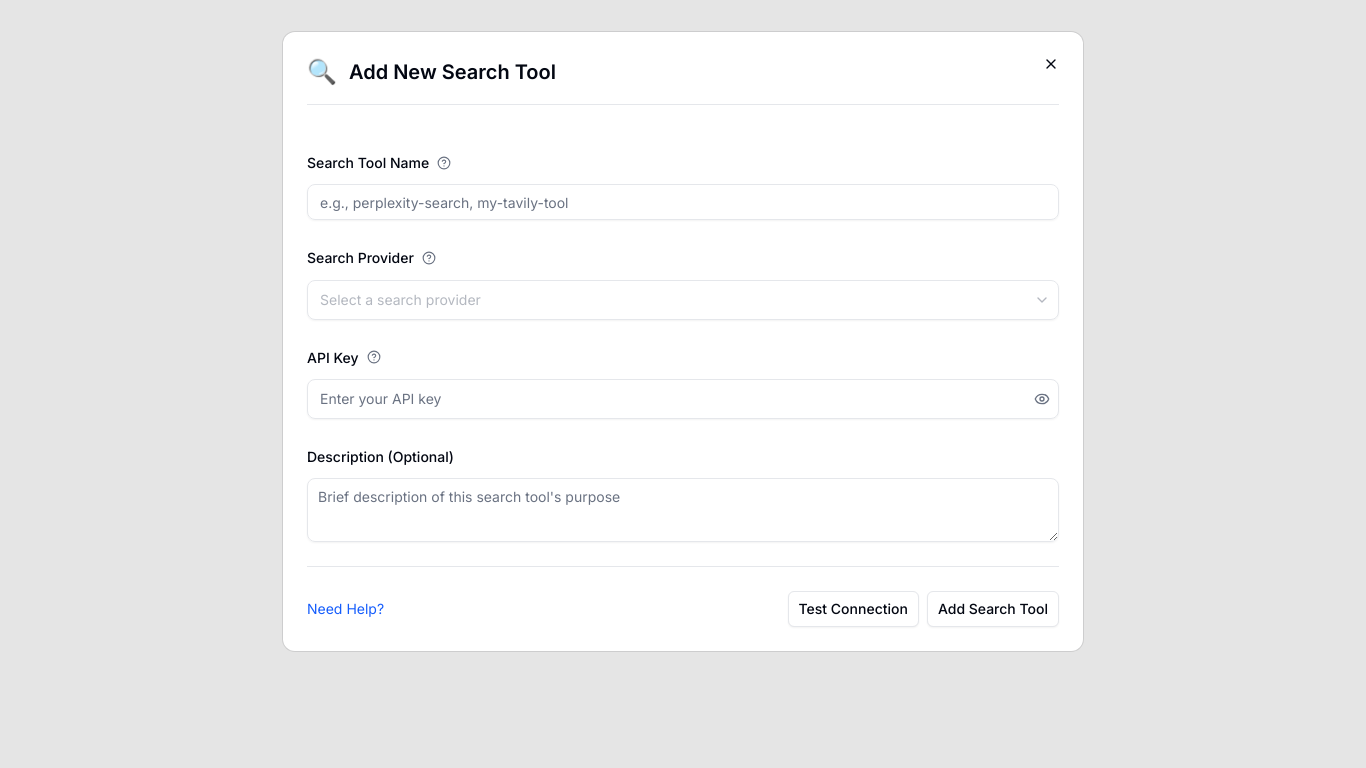
it: CreateSearchTools submit payload › rejects a name with characters outside the allowed pattern
In the field labelled "Search Tool Name": (683, 202) [307,184,1059,220], type "bad name!"
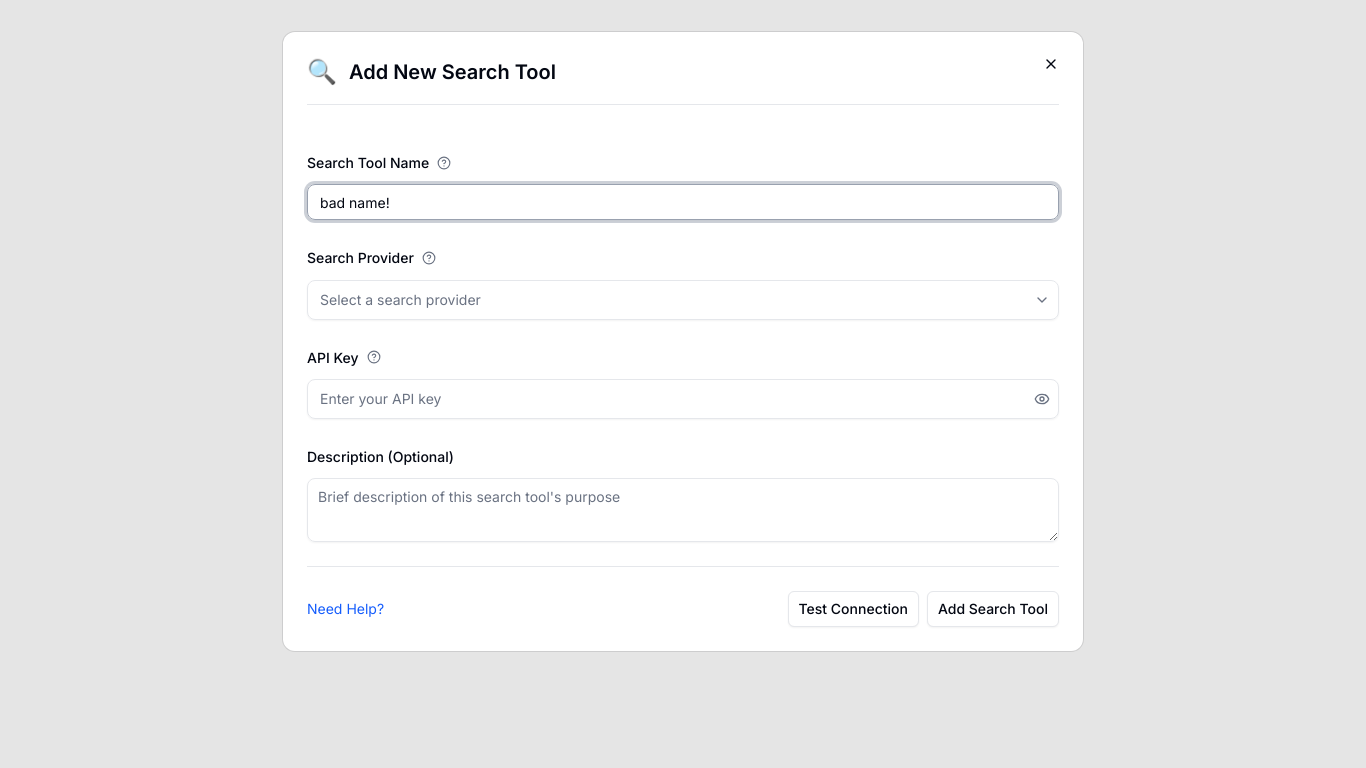
Click the dropdown: (669, 300) [308,282,1030,318]
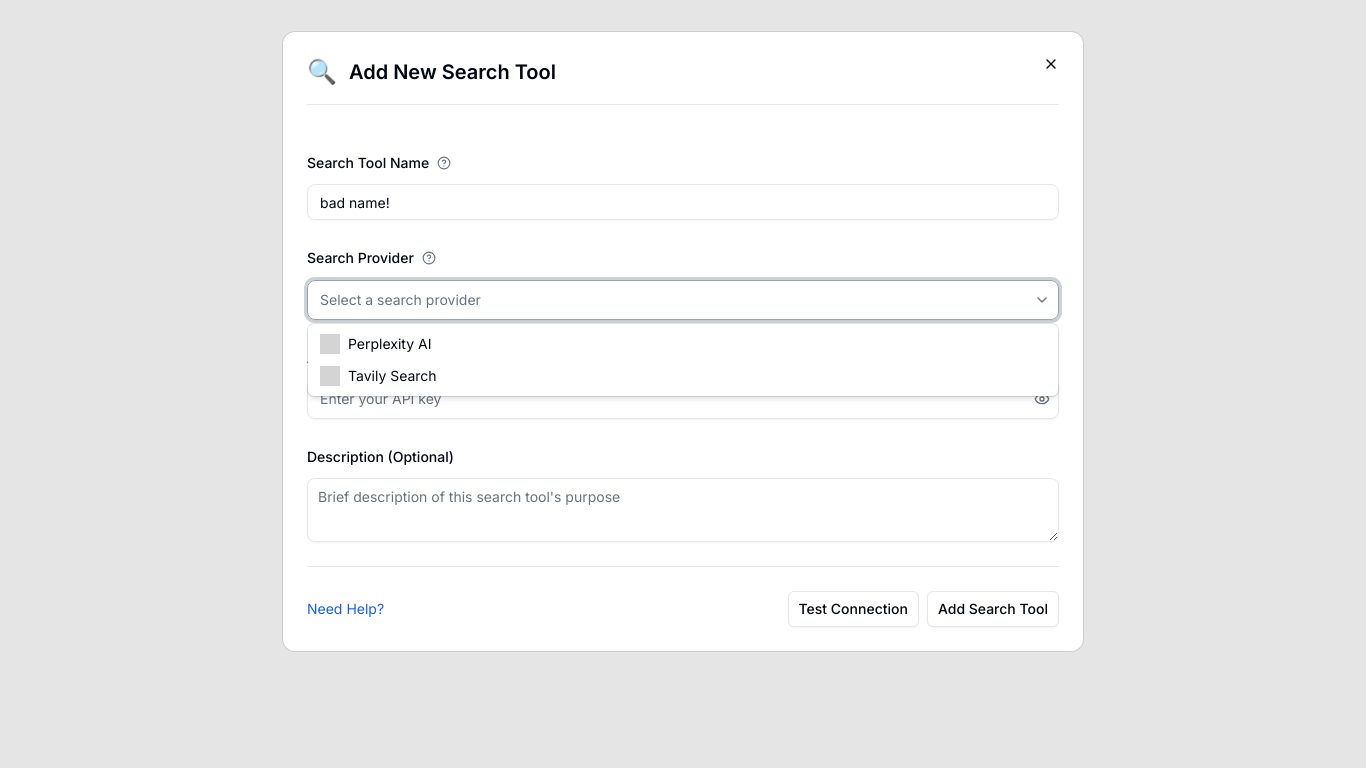
Click the option "Perplexity AI": (376, 344) [320,334,432,354]
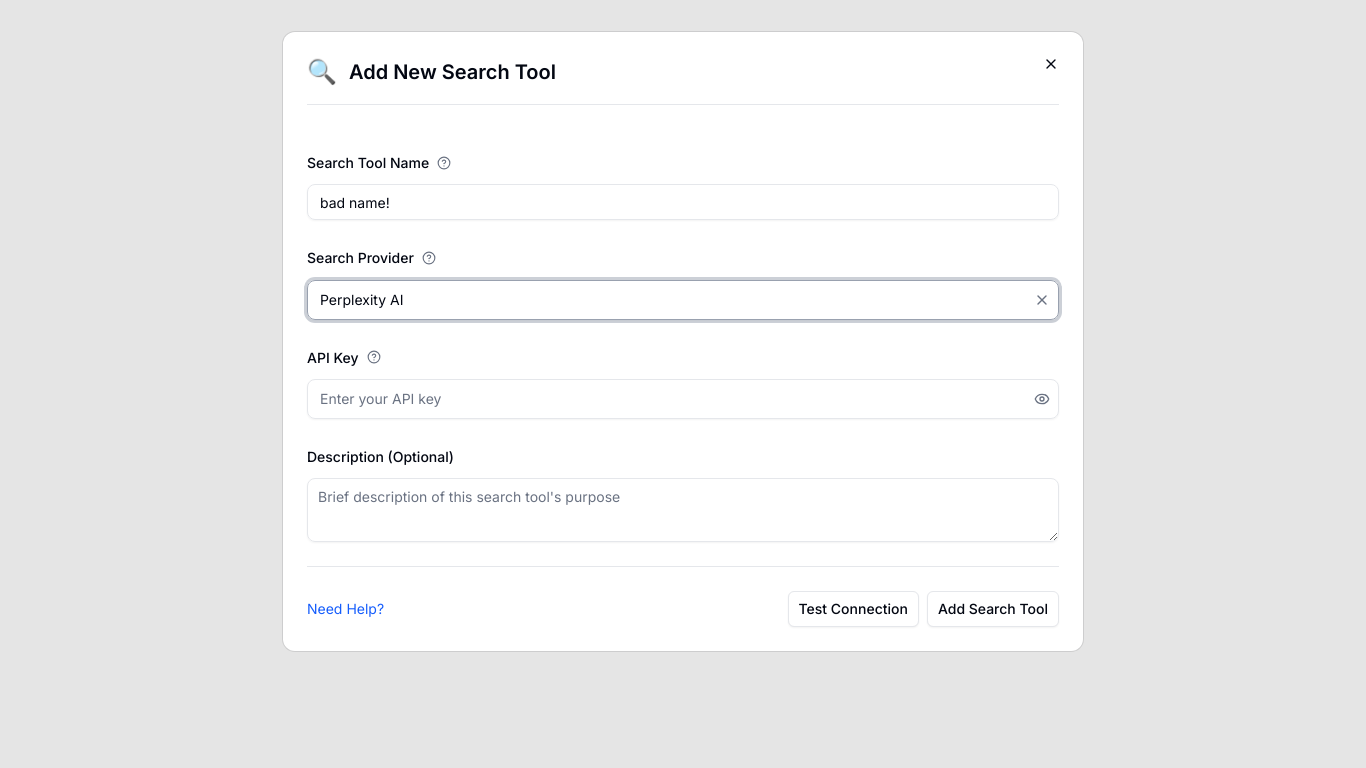
Click the button "Add Search Tool": (993, 609) [927,591,1059,627]
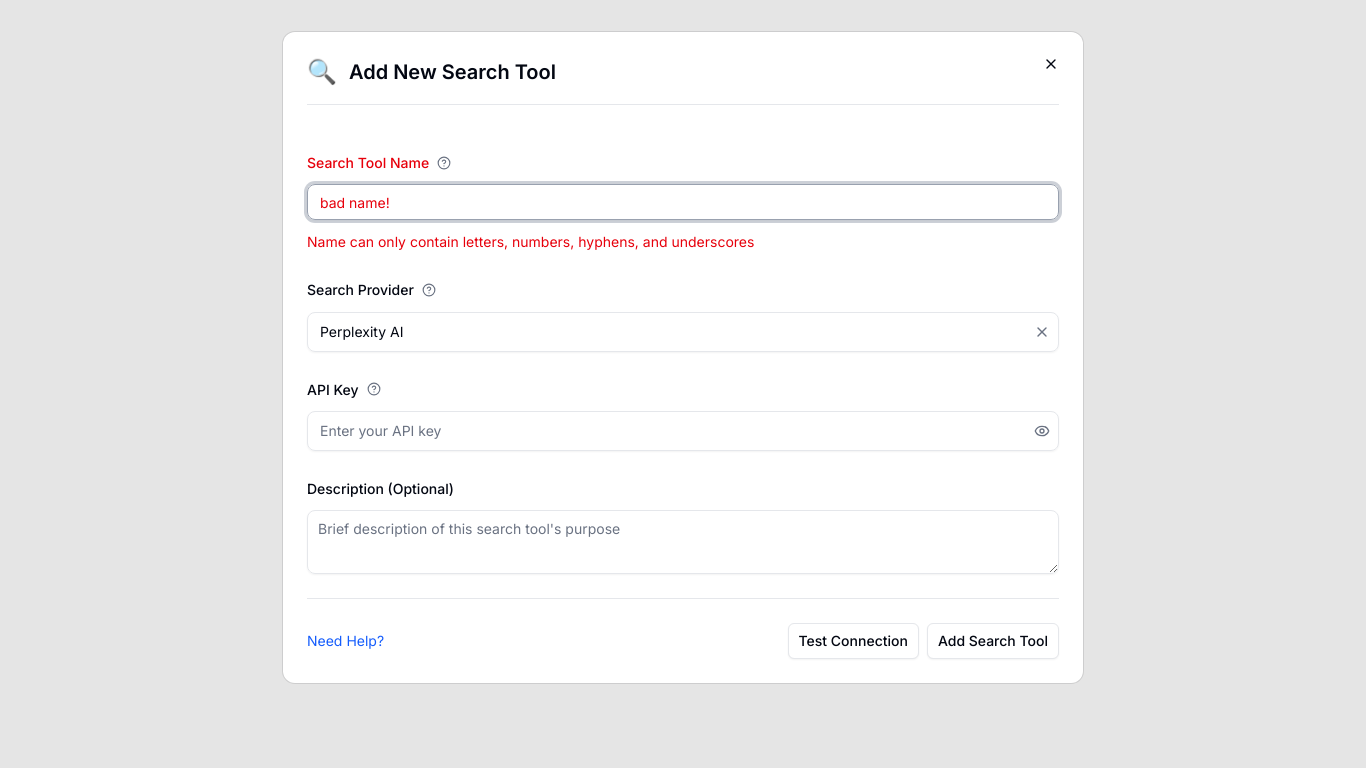
expect the text "Name can only contain letters, numbers, hyphens, and underscores" is shown: met, box [307,233,754,250]
